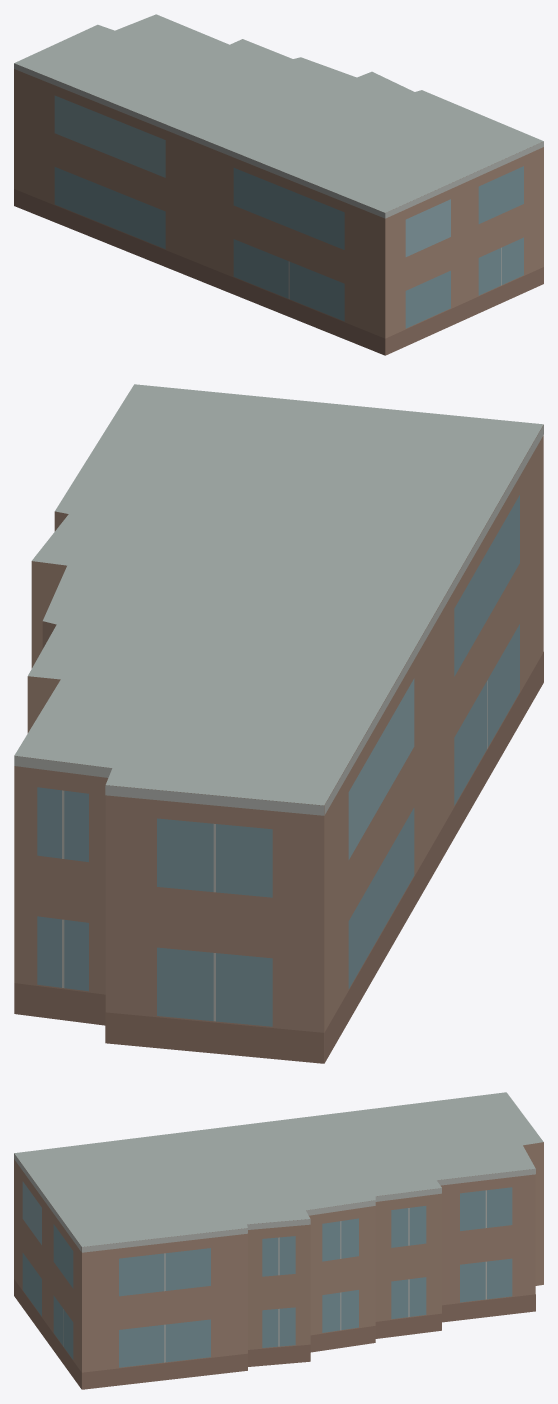
The model's file is survey-upis-32623840.glb.
The picture shows the model from 3 angles, top to bottom: view 1: azimuth 30°, elevation 25°; view 2: azimuth 150°, elevation 25°; view 3: azimuth 270°, elevation 25°; orthographic projection. The views are drawn at different scales.
Visible parts, largest first — view 1: survey-upis-32623840.tmp; view 2: survey-upis-32623840.tmp; view 3: survey-upis-32623840.tmp.
Part boxes in pixels (<box>): survey-upis-32623840.tmp: <box>14,14,543,355</box>; survey-upis-32623840.tmp: <box>14,384,543,1063</box>; survey-upis-32623840.tmp: <box>14,1092,543,1389</box>.
Bounding box in the file's own units: 14.21 × 6.1 × 20.53.
